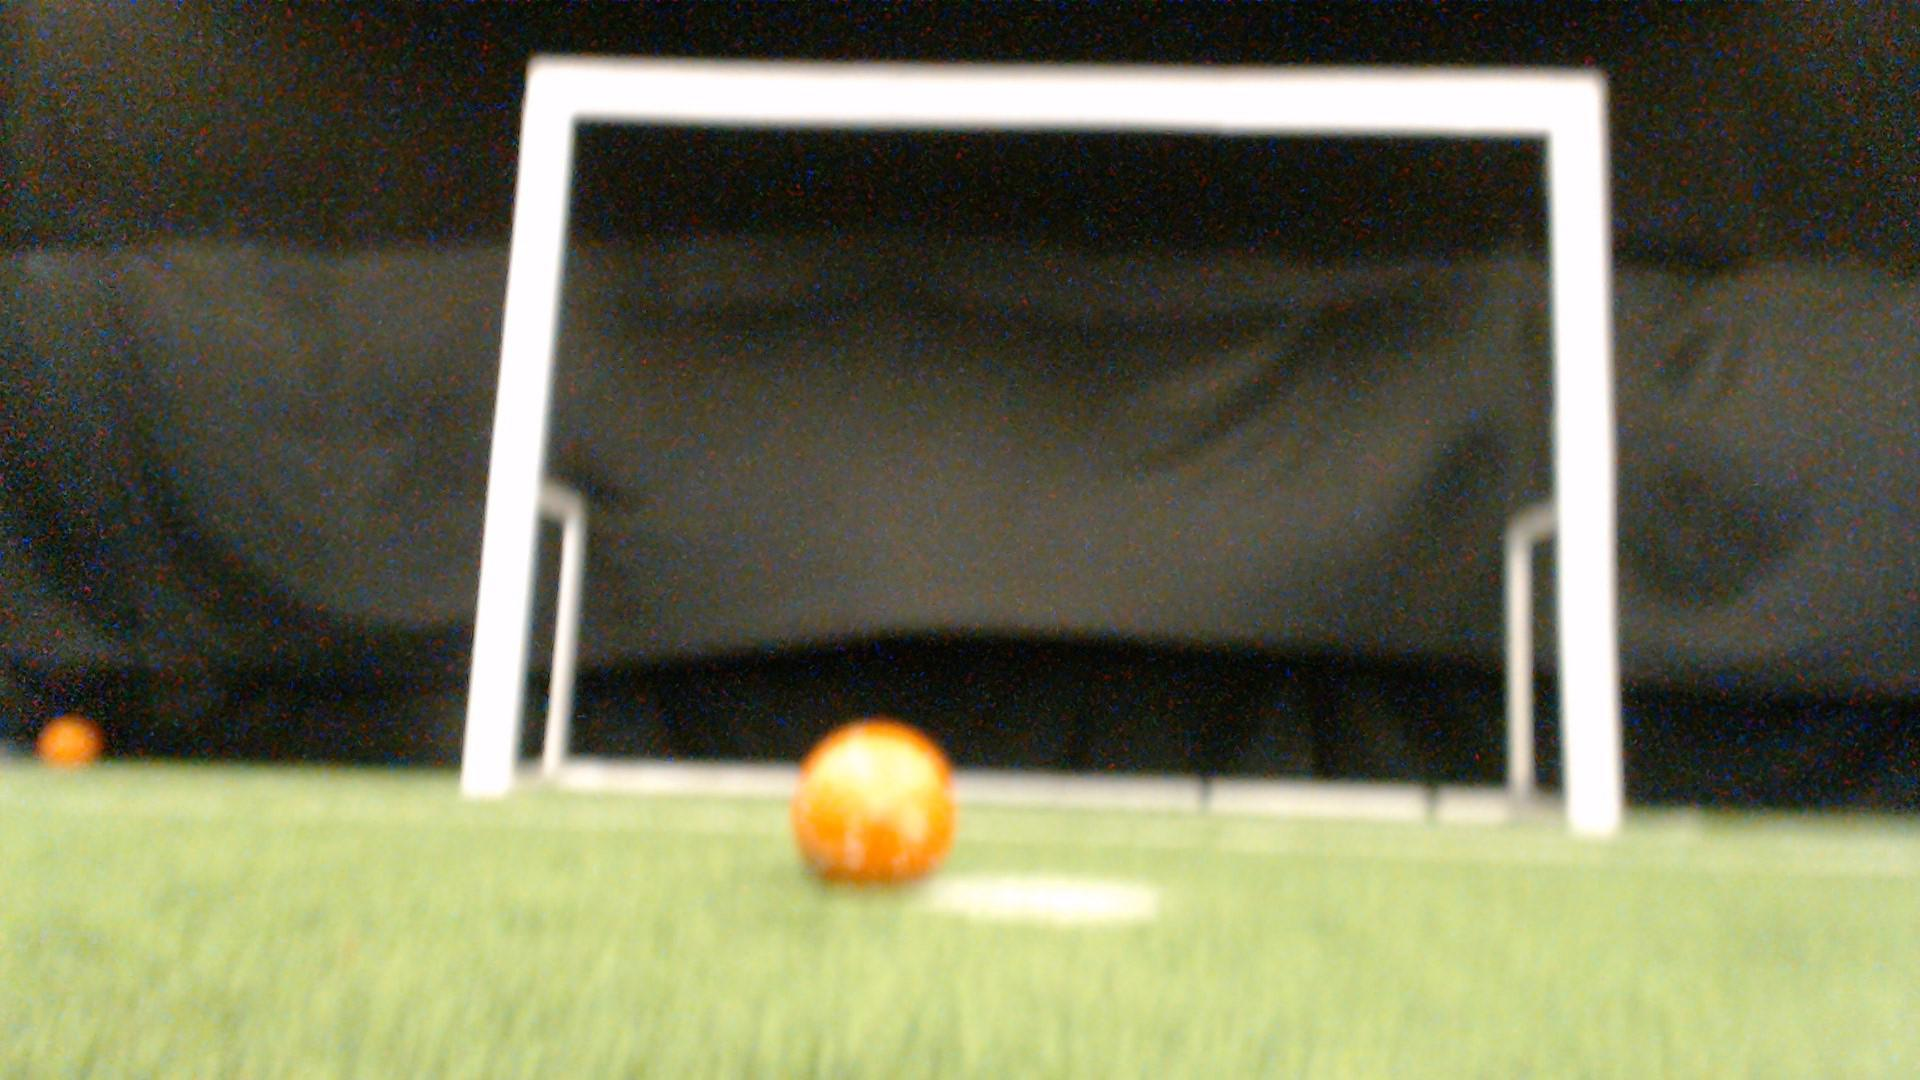bola: (765, 712, 977, 922), (34, 712, 109, 779)
